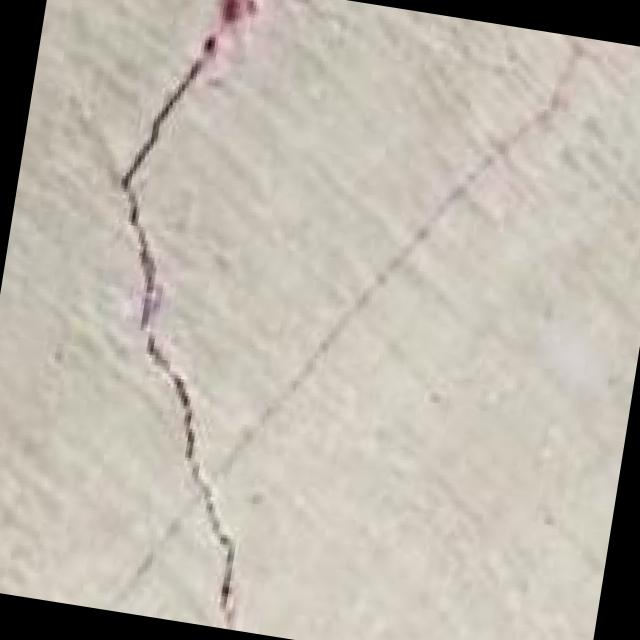crack: (0, 0, 364, 632)
